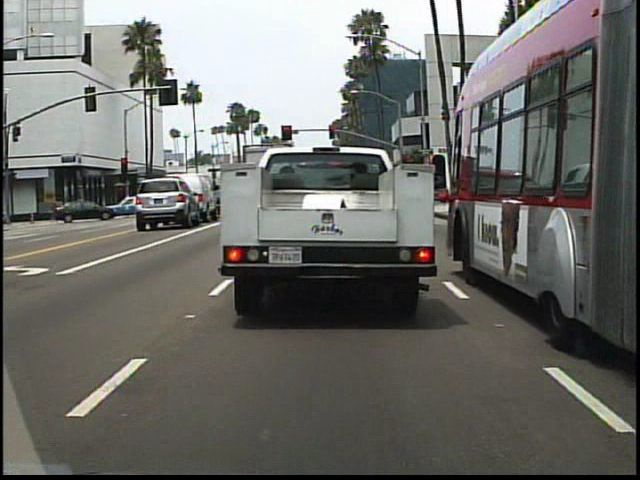person: (46, 193, 65, 225)
